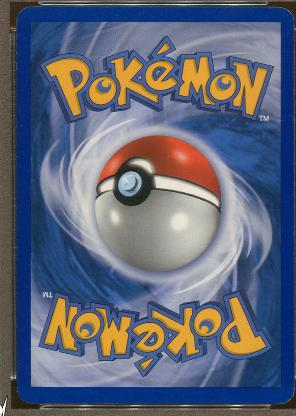Card: (14, 4, 294, 406)
Corner Wear: (269, 386, 293, 404), (15, 386, 37, 405), (15, 7, 25, 27)
Edge Wear: (16, 18, 18, 70), (291, 228, 293, 262), (15, 243, 17, 253), (16, 321, 18, 331)
Scratch: (287, 114, 291, 118)
